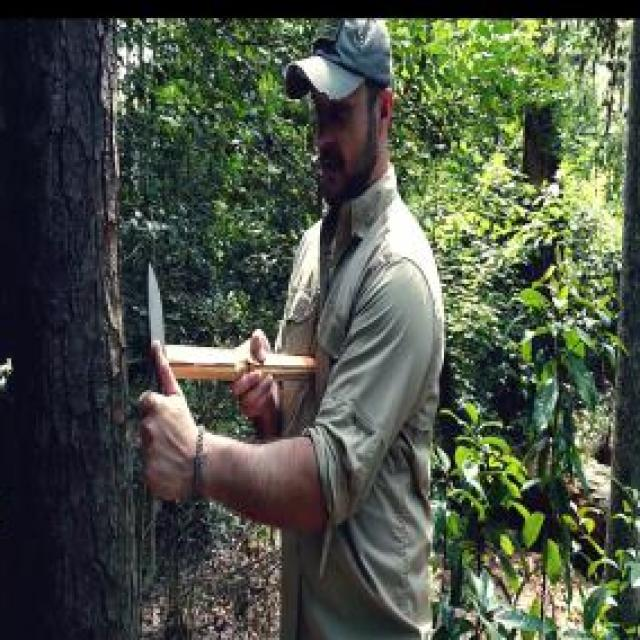knife: (134, 252, 180, 469)
